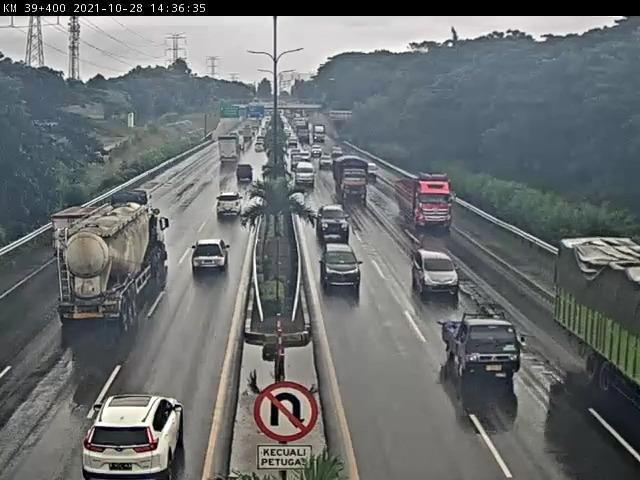car: (97, 382, 182, 477), (445, 315, 531, 379), (324, 238, 362, 292), (189, 236, 230, 286), (415, 249, 460, 294), (217, 180, 238, 223), (320, 203, 346, 236), (238, 161, 258, 183), (300, 164, 319, 187)
truck: (80, 185, 160, 313), (339, 156, 376, 218), (402, 180, 456, 215), (221, 139, 243, 164)
